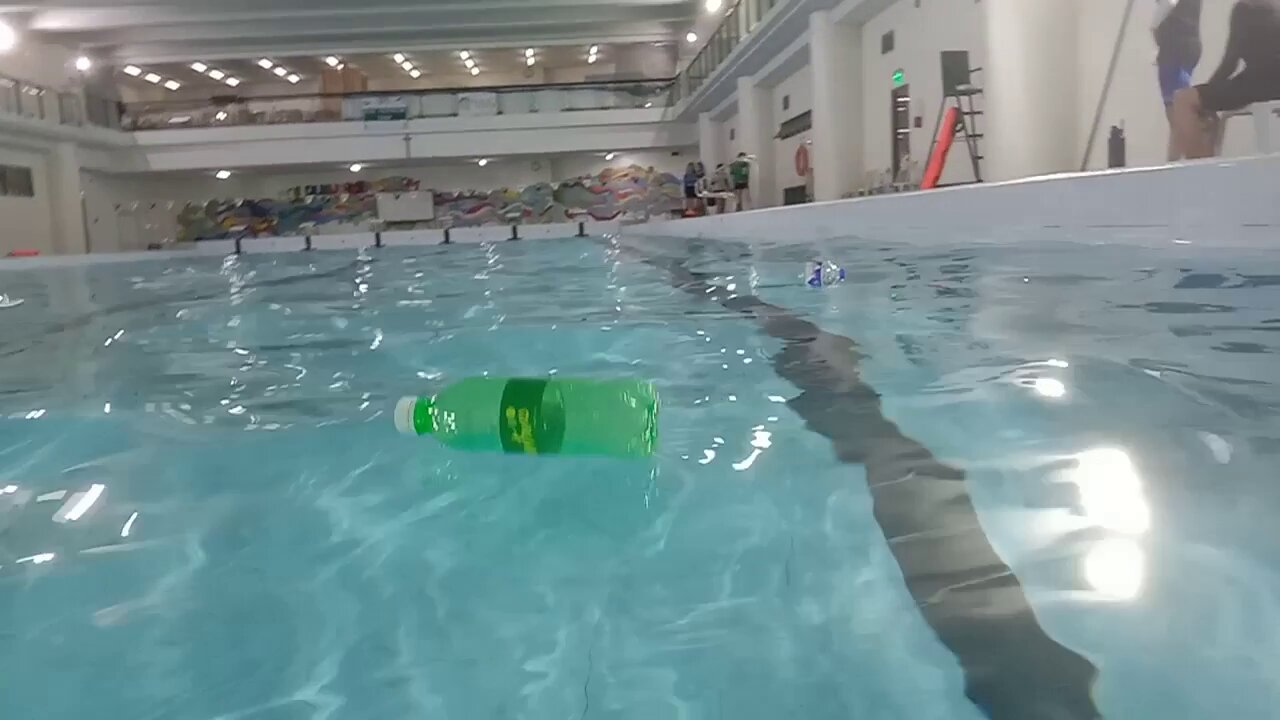plastic_bottle: (395, 378, 657, 454), (746, 258, 848, 291)
